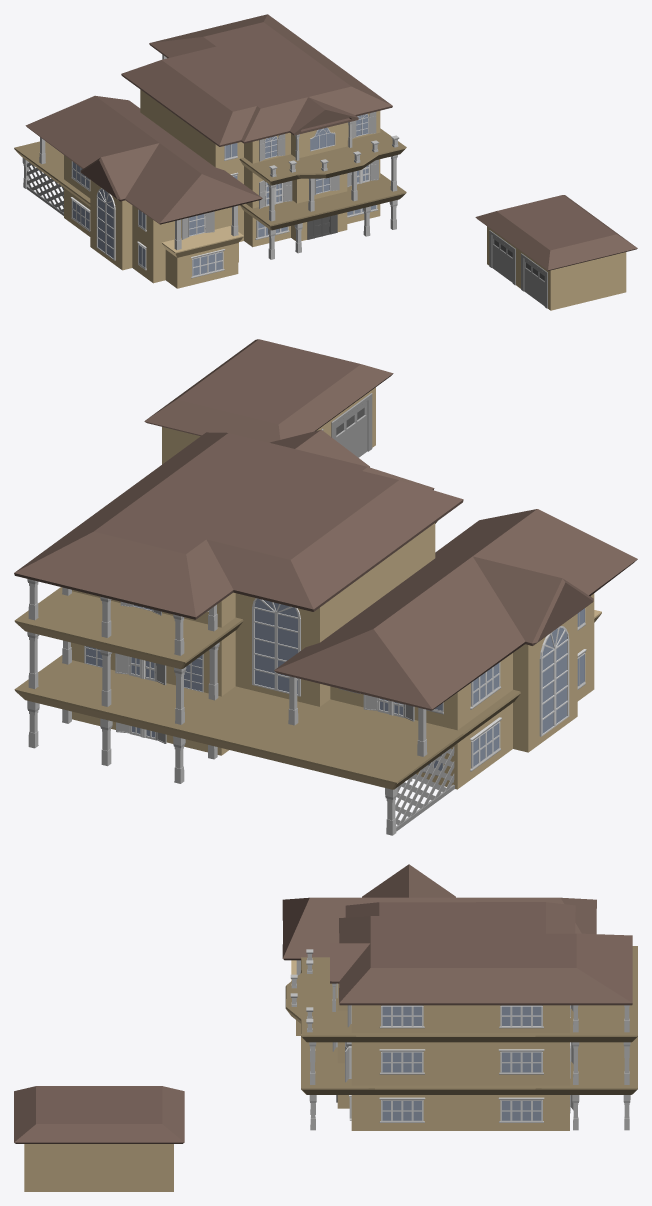
File: armani_new_cut.fbx
3 renders of one model, top to bottom at view 1: azimuth 30°, elevation 25°; view 2: azimuth 150°, elevation 25°; view 3: azimuth 270°, elevation 25°, orthographic. The views are drawn at different scales.
Parts seen in each view (by area): view 1: roof, walls, balcony, glass1, window_exteriors, pillars1, garage_doors, window_covers, lattice, front_door1; view 2: roof, balcony, walls, glass1, pillars1, window_exteriors, lattice, garage_doors, window_covers; view 3: roof, walls, balcony, glass1, window_exteriors, pillars1.
Part boxes in pixels (x1,y1,x2,y2): roof: [25, 14, 637, 270]; walls: [64, 89, 626, 310]; balcony: [14, 128, 406, 230]; glass1: [72, 114, 375, 275]; window_exteriors: [70, 114, 377, 278]; pillars1: [22, 54, 399, 259]; garage_doors: [489, 230, 547, 308]; window_covers: [181, 112, 378, 239]; lattice: [26, 162, 63, 215]; front_door1: [307, 214, 337, 239]; roof: [14, 339, 637, 710]; balcony: [14, 521, 520, 789]; walls: [71, 387, 601, 789]; glass1: [85, 598, 584, 770]; pillars1: [27, 579, 427, 835]; window_exteriors: [84, 598, 586, 775]; lattice: [395, 747, 454, 831]; garage_doors: [321, 393, 372, 457]; window_covers: [115, 601, 414, 781]; roof: [14, 864, 632, 1143]; walls: [24, 960, 569, 1191]; balcony: [285, 946, 637, 1094]; glass1: [382, 1006, 541, 1120]; window_exteriors: [336, 983, 571, 1122]; pillars1: [290, 949, 630, 1130].
Size of the model in its own units: 39.77 by 13.22 by 49.48.
